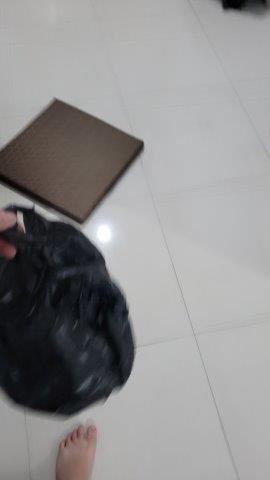plastik: (1, 201, 136, 426)
